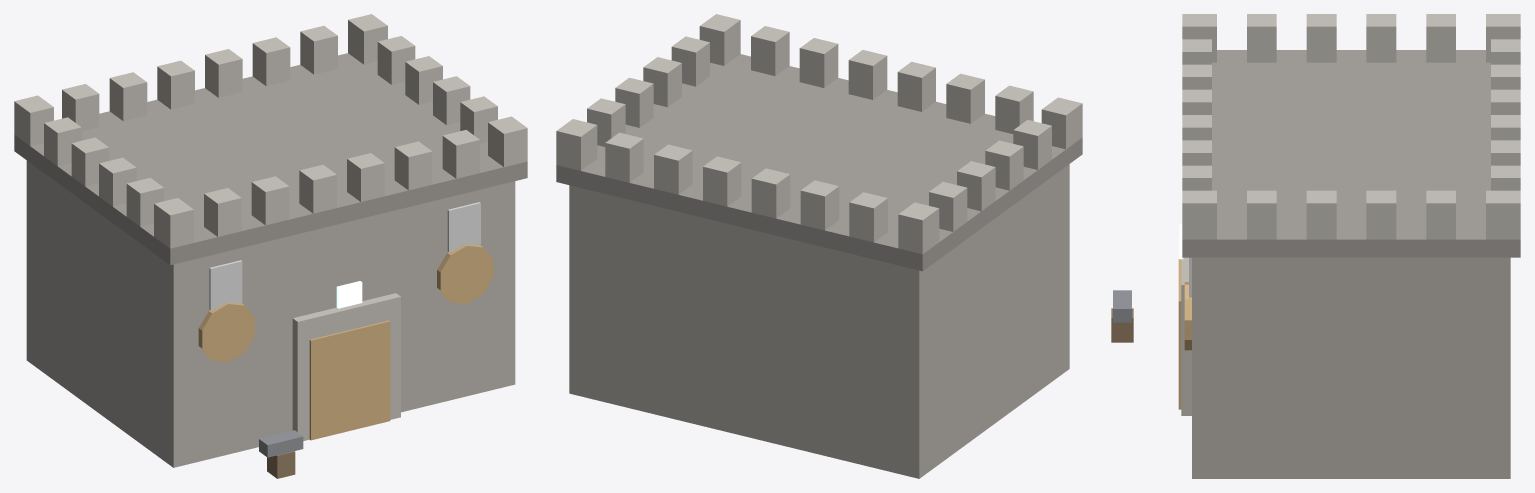
The picture shows the model from 3 angles, left to right: view 1: azimuth 30°, elevation 25°; view 2: azimuth 150°, elevation 25°; view 3: azimuth 270°, elevation 25°; orthographic projection. The views are drawn at different scales.
Parts seen in each view (by area): view 1: body; view 2: body; view 3: body.
Boxes of the visible parts, <box> form: body: <box>14,14,527,478</box>; body: <box>556,14,1082,478</box>; body: <box>1111,14,1520,478</box>.
Bounding box in the file's own units: 9 × 6.2 × 8.22.
